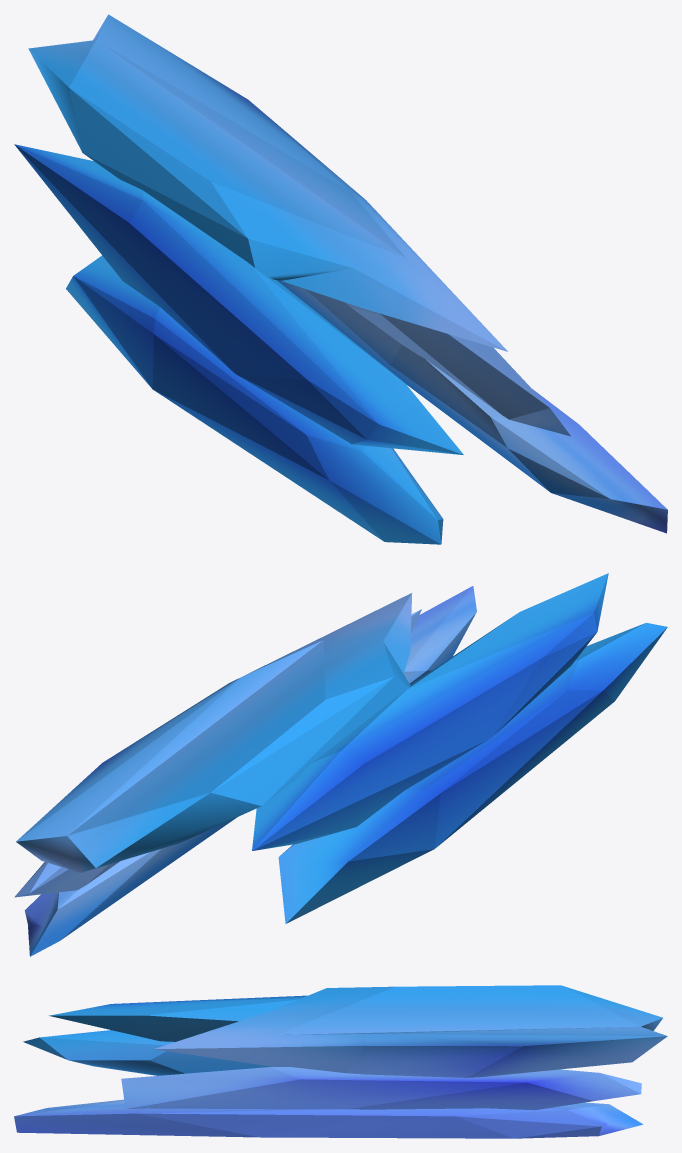
File: Terrain_Snow_Rock_1.fbx
The picture shows the model from 3 angles, top to bottom: view 1: azimuth 30°, elevation 25°; view 2: azimuth 150°, elevation 25°; view 3: azimuth 270°, elevation 25°; orthographic projection. The views are drawn at different scales.
Visible parts, largest first — view 1: terrain_wall_401_3_LOD1; view 2: terrain_wall_401_3_LOD1; view 3: terrain_wall_401_3_LOD1.
Boxes of the visible parts, x1,y1,x2,y2 form: terrain_wall_401_3_LOD1: (14,14,667,544); terrain_wall_401_3_LOD1: (14,573,667,956); terrain_wall_401_3_LOD1: (14,985,667,1138).
Bounding box in the file's own units: 877 × 524 × 3072.
Materials: 1 (1 with a texture image).
